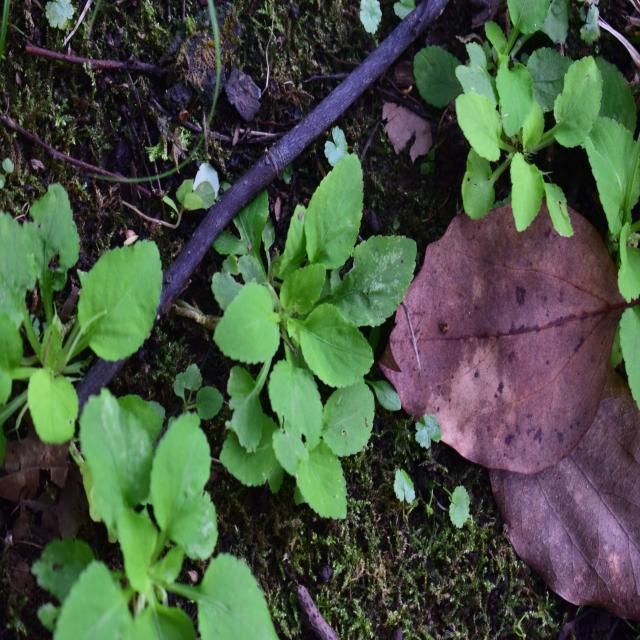Viola: (218, 175, 412, 520), (44, 408, 286, 628)
